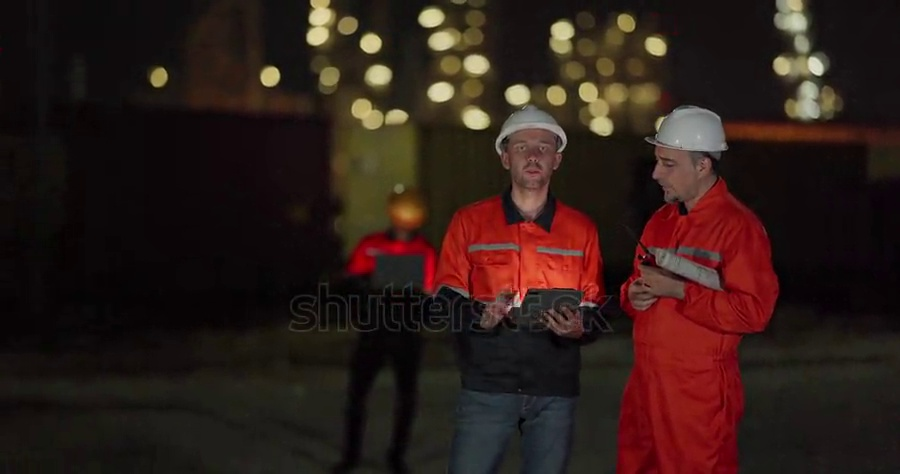helmet: (644, 104, 731, 154), (495, 106, 567, 155), (386, 189, 427, 230)
person: (433, 106, 606, 474), (615, 105, 780, 474), (333, 189, 438, 474)
